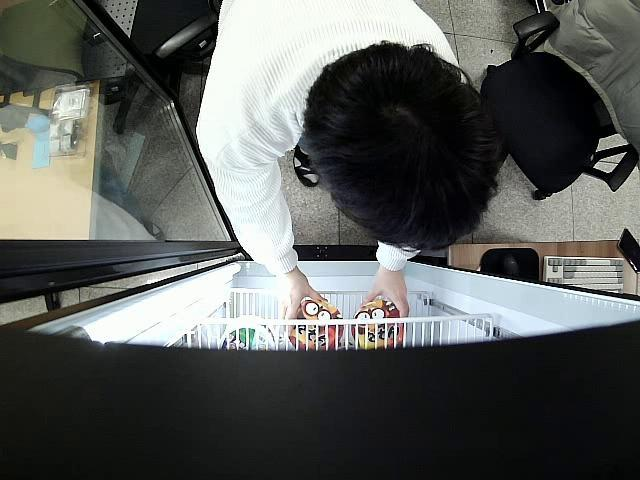05_nuguri_L: (288, 298, 345, 348), (350, 298, 404, 348)
